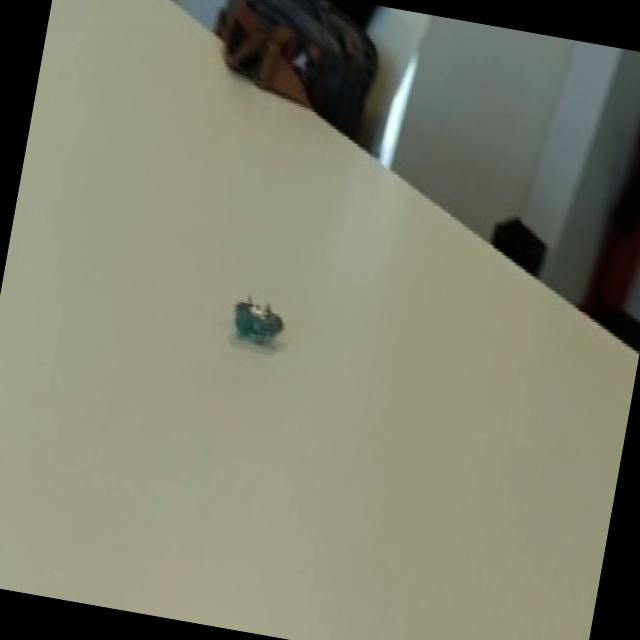5_NanoBug_GrisClaro: (210, 265, 306, 366)
